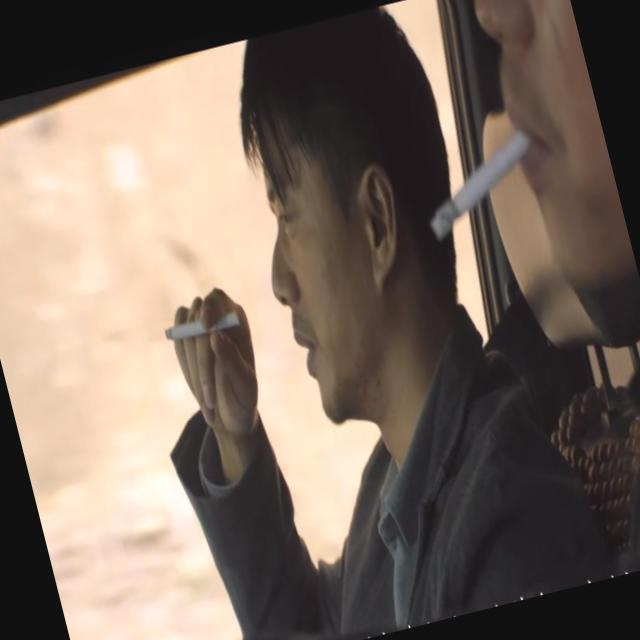cigarette: (406, 125, 549, 243), (158, 302, 245, 353)
